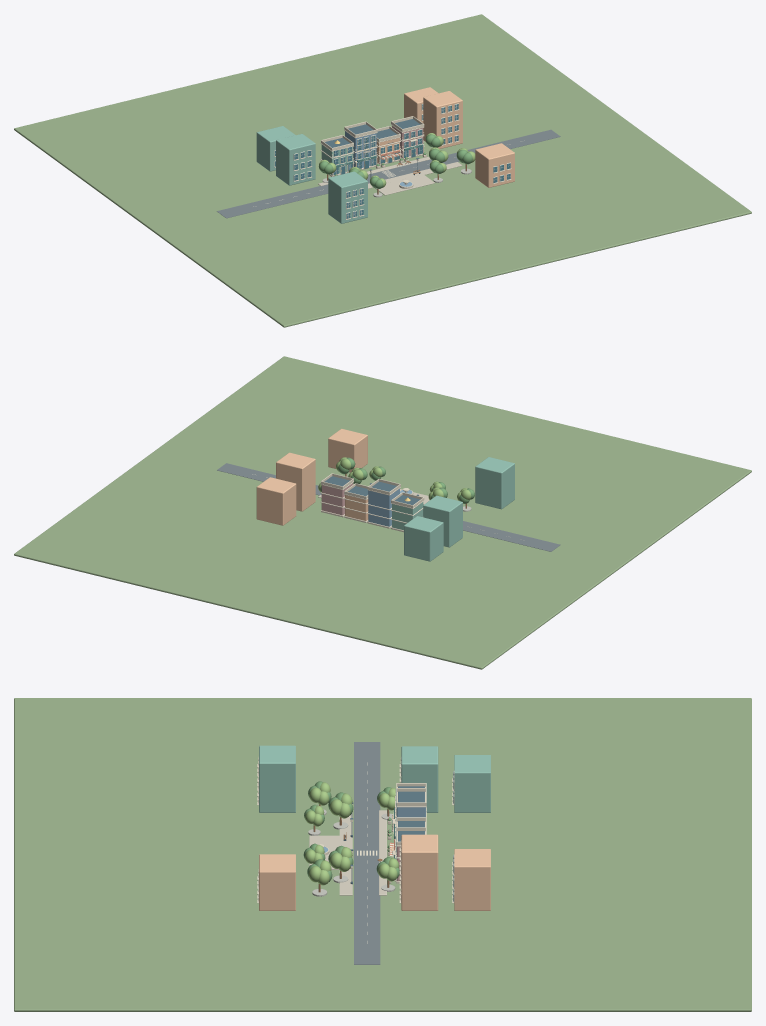
The model's file is freedom-square.glb.
3 views of the same model, one above another, from view 1: azimuth 30°, elevation 25°; view 2: azimuth 150°, elevation 25°; view 3: azimuth 270°, elevation 25° (orthographic). The views are drawn at different scales.
Visible parts, largest first — view 1: Town_grass, Town_wallMint, Town_wallPeach, Town_road, Town_ivory, Town_glass, Town_cream, Town_paving, Town_leaf, Town_slate; view 2: Town_grass, Town_wallMint, Town_wallPeach, Town_road, Town_ivory, Town_wallBlue, Town_leafLight, Town_wallPink, Town_slate, Town_leaf, Town_cream; view 3: Town_grass, Town_wallPeach, Town_wallMint, Town_road, Town_leafLight, Town_paving, Town_ivory, Town_leaf, Town_slate, Town_cream, Town_stone.
Boxes of the visible parts, left/top/right/bottom form: Town_grass: left=14, top=14, right=751, bottom=327; Town_wallMint: left=256, top=126, right=367, bottom=223; Town_wallPeach: left=376, top=87, right=514, bottom=187; Town_road: left=217, top=129, right=560, bottom=218; Town_ivory: left=274, top=104, right=511, bottom=219; Town_glass: left=275, top=104, right=510, bottom=218; Town_cream: left=252, top=103, right=524, bottom=218; Town_paving: left=318, top=156, right=462, bottom=195; Town_leaf: left=318, top=134, right=472, bottom=188; Town_slate: left=324, top=119, right=420, bottom=177; Town_grass: left=14, top=356, right=751, bottom=669; Town_wallMint: left=392, top=457, right=514, bottom=561; Town_wallPeach: left=256, top=428, right=368, bottom=525; Town_road: left=217, top=463, right=560, bottom=551; Town_ivory: left=321, top=473, right=424, bottom=532; Town_wallBlue: left=368, top=488, right=399, bottom=526; Town_leafLight: left=318, top=457, right=471, bottom=500; Town_wallPink: left=321, top=483, right=353, bottom=515; Town_slate: left=324, top=476, right=420, bottom=505; Town_leaf: left=320, top=457, right=474, bottom=503; Town_cream: left=252, top=474, right=524, bottom=540; Town_grass: left=14, top=698, right=751, bottom=1011; Town_wallPeach: left=259, top=834, right=490, bottom=910; Town_wallMint: left=259, top=745, right=490, bottom=812; Town_road: left=354, top=742, right=380, bottom=964; Town_leafLight: left=305, top=782, right=399, bottom=885; Town_paving: left=309, top=810, right=386, bottom=895; Town_ivory: left=257, top=758, right=454, bottom=903; Town_leaf: left=303, top=781, right=399, bottom=881; Town_slate: left=343, top=786, right=424, bottom=884; Town_cream: left=258, top=757, right=454, bottom=943; Town_stone: left=308, top=809, right=395, bottom=896.
Size of the model in its own units: 140 by 13.01 by 140.
